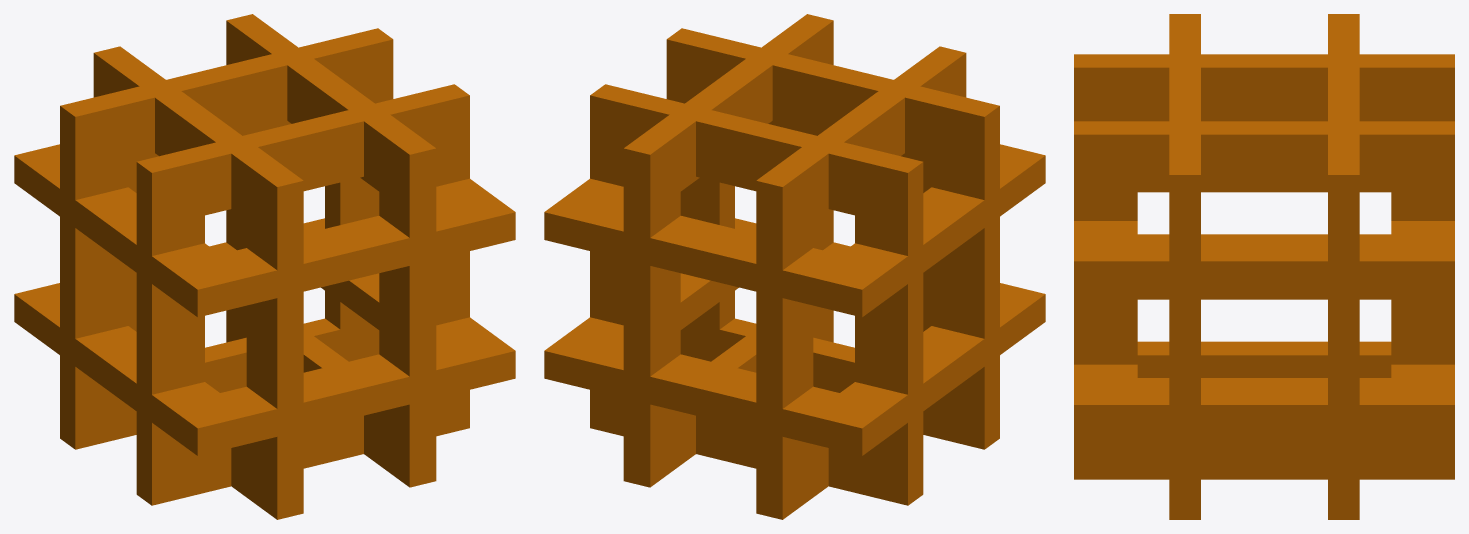
Rendered from Bloc03_actif.FBX.
3 renders of one model, left to right at view 1: azimuth 30°, elevation 25°; view 2: azimuth 150°, elevation 25°; view 3: azimuth 270°, elevation 25°, orthographic. The views are drawn at different scales.
Parts seen in each view (by area): view 1: Bloc_03_actif; view 2: Bloc_03_actif; view 3: Bloc_03_actif.
Boxes of the visible parts, x1=… form: Bloc_03_actif: x1=14, y1=14, x2=515, y2=519; Bloc_03_actif: x1=544, y1=14, x2=1045, y2=519; Bloc_03_actif: x1=1074, y1=14, x2=1454, y2=519.
Size of the model in its own units: 120 by 120 by 120.
